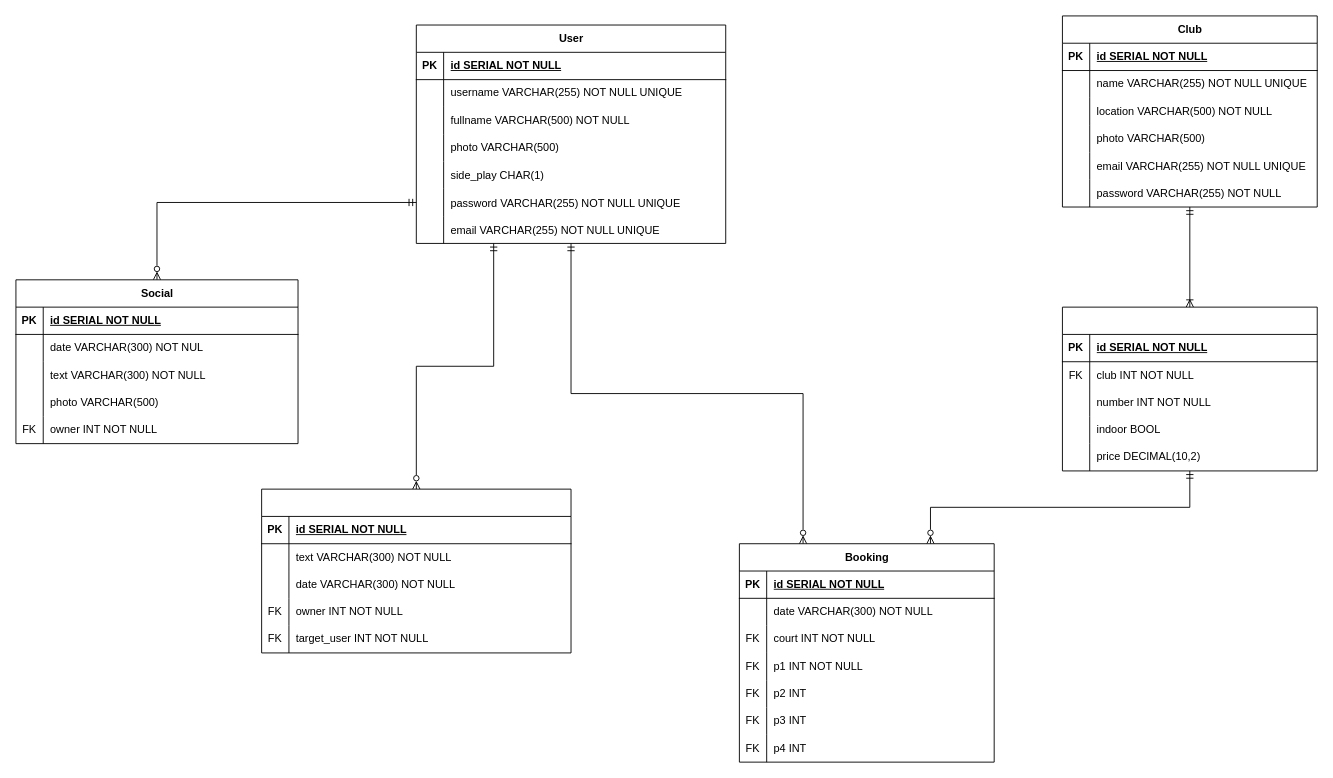
Some shapes in this 1333 by 778 pixel diagram are drawn without their labels. The shapes that lost their labels are listed below. From the top down, each one's box as (x1, y1, x2, y2) in pixels, then its label:
(1062, 306, 1317, 471): Court
(261, 488, 571, 653): Message
